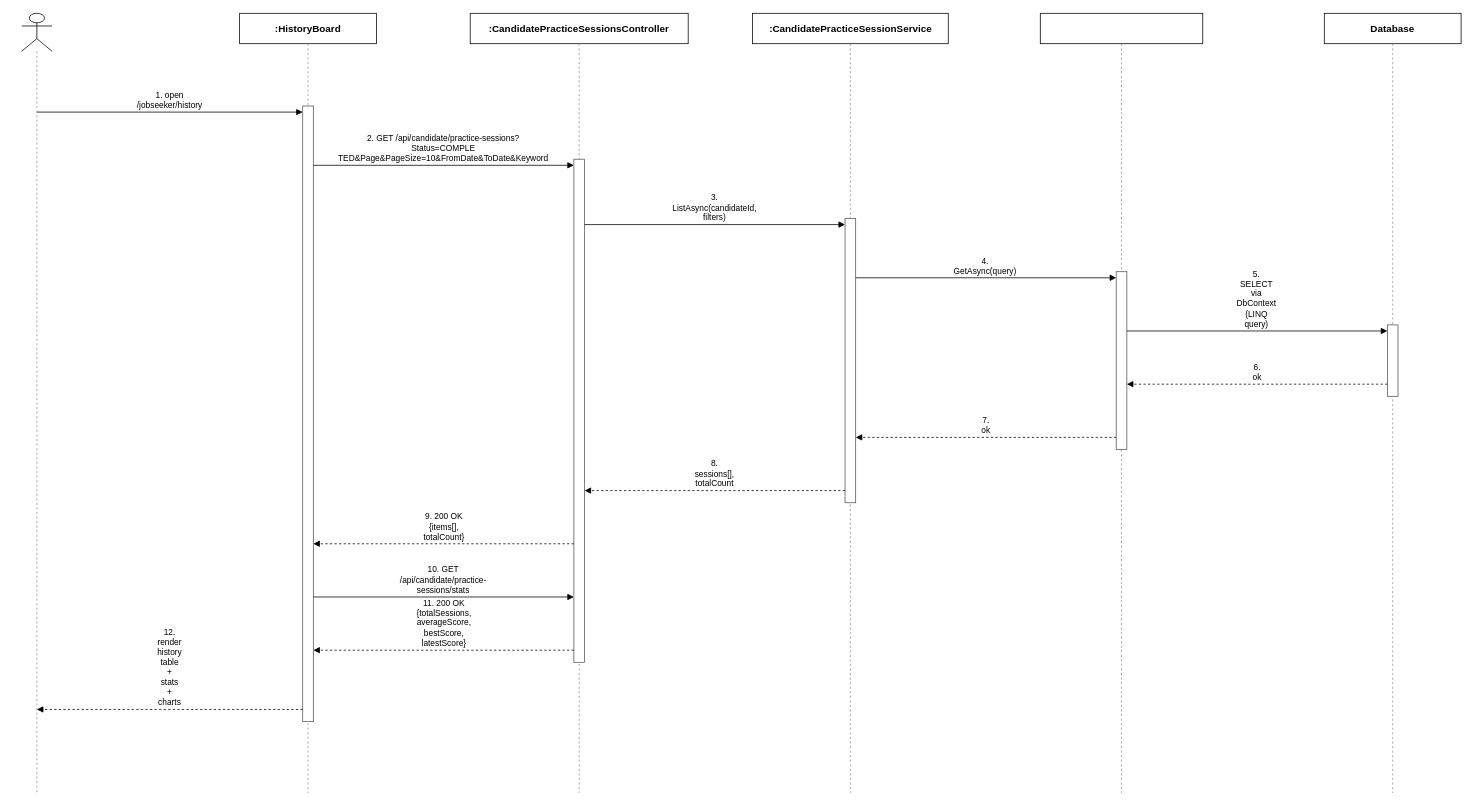
Image size: 1474x807. Some labels were removed from this diagram. Each missing label, with the centre of its shape:
":PracticeSessionRepository" goes at (1121,28).
"Candidate" goes at (36,32).
